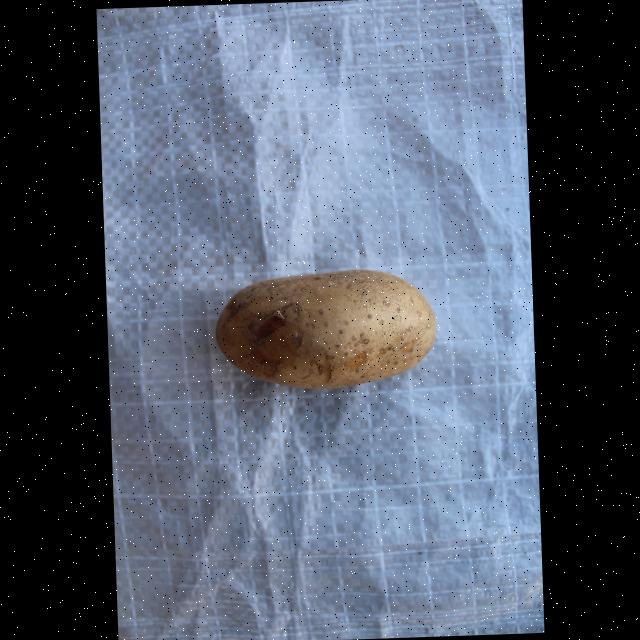Diseased-fungal potato: (208, 262, 442, 400)
